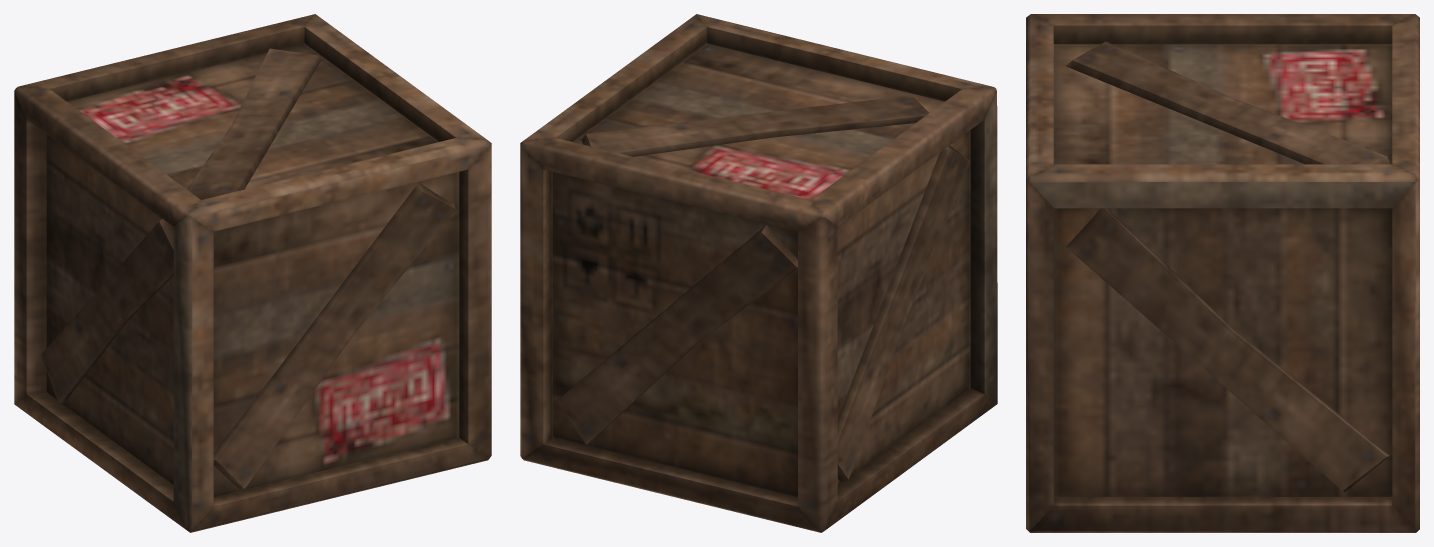
Rendered from crate.glb.
3 views of the same model, side by side, from view 1: azimuth 30°, elevation 25°; view 2: azimuth 150°, elevation 25°; view 3: azimuth 270°, elevation 25° (orthographic). The views are drawn at different scales.
Parts seen in each view (by area): view 1: crate002_Material #51_0; view 2: crate002_Material #51_0; view 3: crate002_Material #51_0.
Boxes of the visible parts, x1,y1,x2,y2 form: crate002_Material #51_0: (14,14,491,532); crate002_Material #51_0: (520,14,997,532); crate002_Material #51_0: (1026,14,1419,532).
Size of the model in its own units: 2.47 by 2.48 by 2.48.
Materials: 1 (1 with a texture image).
